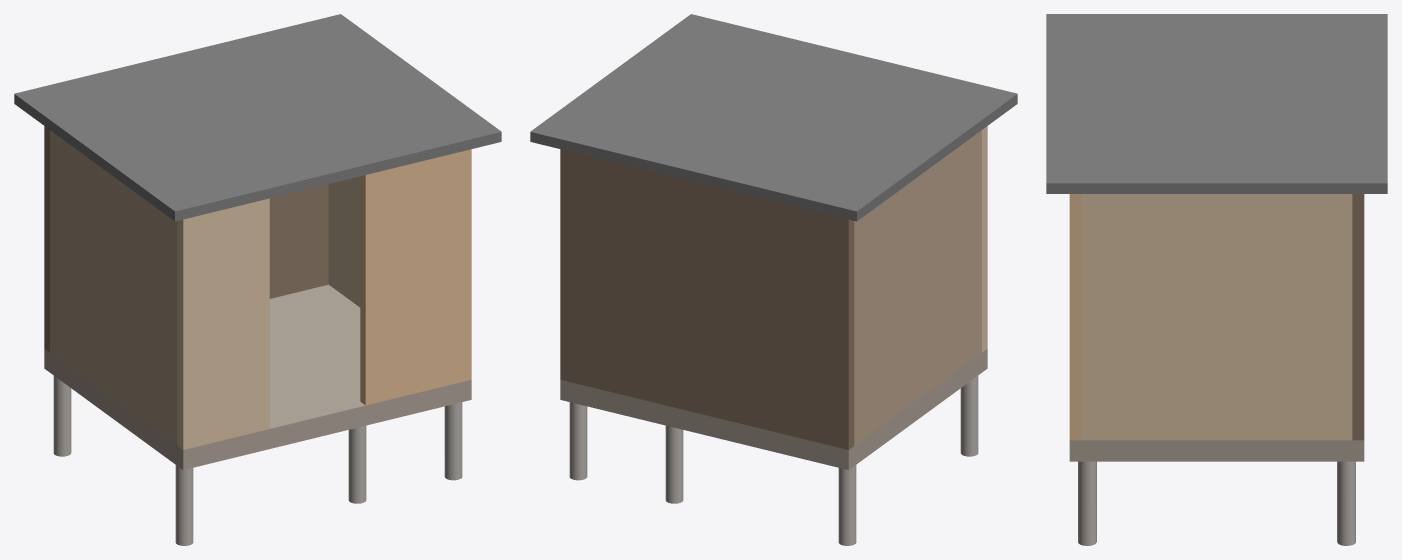
Rendered from small_wooden_cabin_on_stilts.gltf.
3 views of the same model, side by side, from view 1: azimuth 30°, elevation 25°; view 2: azimuth 150°, elevation 25°; view 3: azimuth 270°, elevation 25° (orthographic). The views are drawn at different scales.
Parts seen in each view (by area): view 1: roof, wall_left_side, wall_front_right, wall_front_left, floor_base, wall_back, wall_right_side, stilt_front_left, stilt_front_right, stilt_front_center, stilt_back_left; view 2: wall_back, roof, wall_left_side, floor_base, stilt_back_left, stilt_back_right, stilt_back_center, stilt_front_left, wall_front_left; view 3: wall_right_side, roof, floor_base, wall_back, wall_front_right, stilt_front_right, stilt_back_right.
Part boxes in pixels (x1,y1,x2,y2): roof: (14,14,501,221); wall_left_side: (50,130,177,445); wall_front_right: (360,149,471,405); wall_front_left: (177,198,269,449); floor_base: (44,284,471,469); wall_back: (44,126,328,352); wall_right_side: (328,176,360,307); stilt_front_left: (175,465,193,545); stilt_front_right: (444,402,462,480); stilt_front_center: (348,425,366,503); stilt_back_left: (53,376,71,456); wall_back: (560,149,854,449); roof: (530,14,1017,221); wall_left_side: (854,130,981,445); floor_base: (560,349,987,469); stilt_back_left: (838,465,856,545); stilt_back_right: (569,402,587,480); stilt_back_center: (665,425,683,503); stilt_front_left: (960,376,978,456); wall_front_left: (982,126,987,352); wall_right_side: (1081,194,1352,440); roof: (1046,14,1387,193); floor_base: (1069,440,1364,461); wall_back: (1352,194,1364,440); wall_front_right: (1069,194,1081,440); stilt_front_right: (1078,461,1096,545); stilt_back_right: (1337,461,1355,545).
Size of the model in its own units: 3.4 by 3.5 by 2.9.
